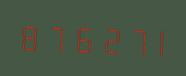eight: (17, 17, 41, 54)
one: (143, 21, 167, 58)
seven: (42, 18, 66, 55), (118, 20, 142, 57)
six: (68, 19, 92, 55)
two: (93, 20, 117, 56)
